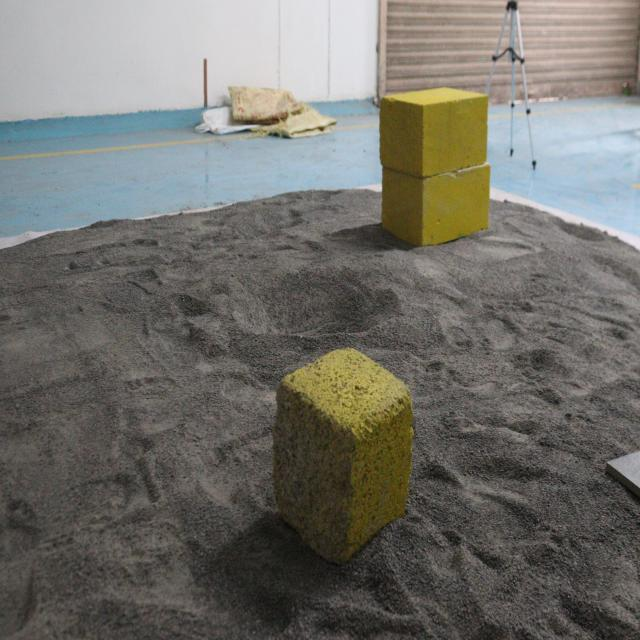box: (268, 352, 422, 566), (380, 83, 495, 250)
crater: (212, 250, 414, 352)
